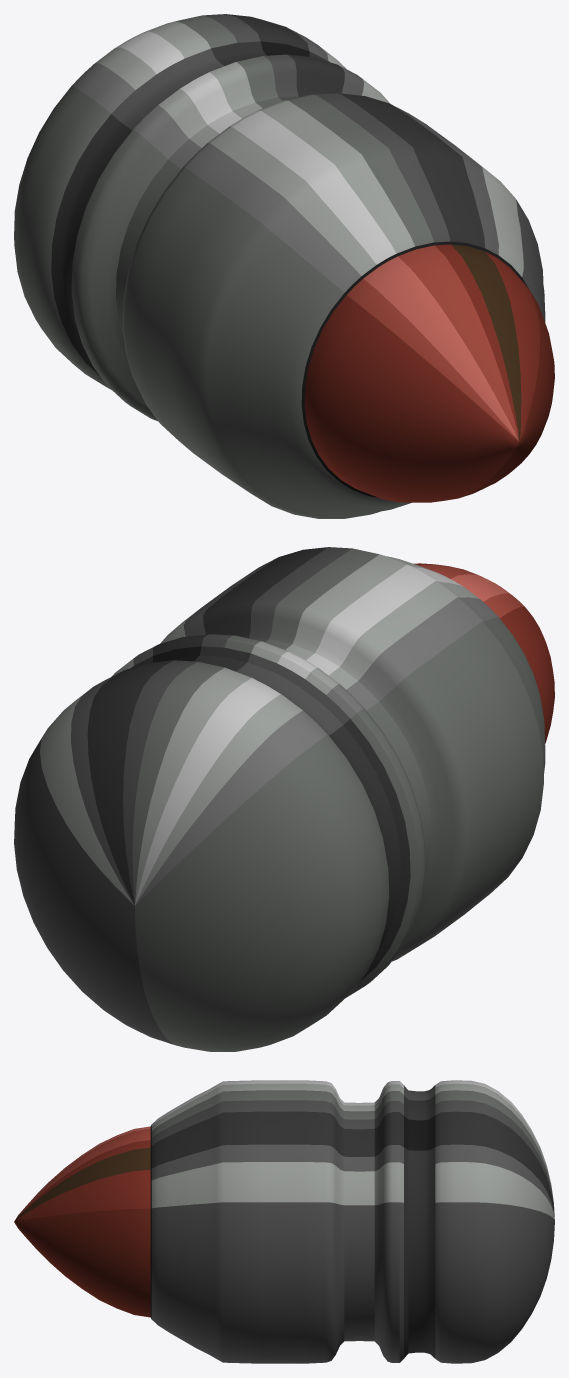
Rendered from missile.glb.
The picture shows the model from 3 angles, top to bottom: view 1: azimuth 30°, elevation 25°; view 2: azimuth 150°, elevation 25°; view 3: azimuth 270°, elevation 25°; orthographic projection. The views are drawn at different scales.
Parts seen in each view (by area): view 1: steel, warhead; view 2: steel, warhead; view 3: steel, warhead.
Boxes of the visible parts, x1,y1,x2,y2 form: steel: (14,14,545,518); warhead: (304,244,554,502); steel: (14,547,545,1051); warhead: (414,563,554,743); steel: (150,1080,554,1363); warhead: (14,1126,150,1317).
Bounding box in the file's own units: 13.09 × 13.09 × 24.97.
